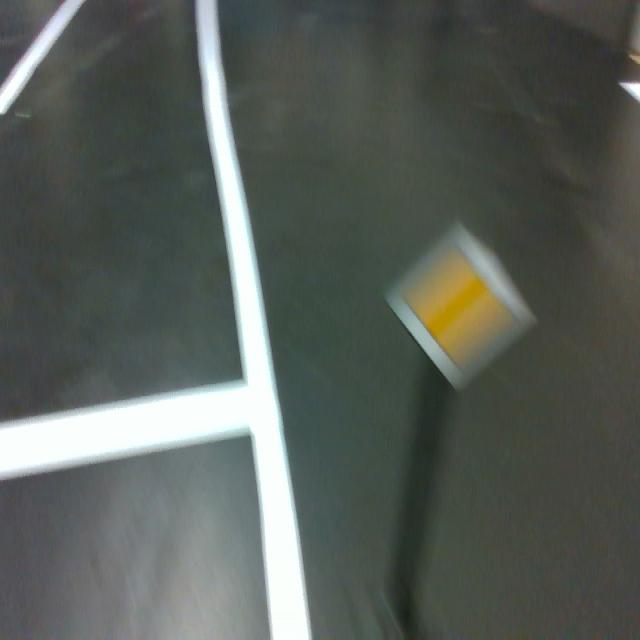priority-sign: (384, 219, 539, 394)
